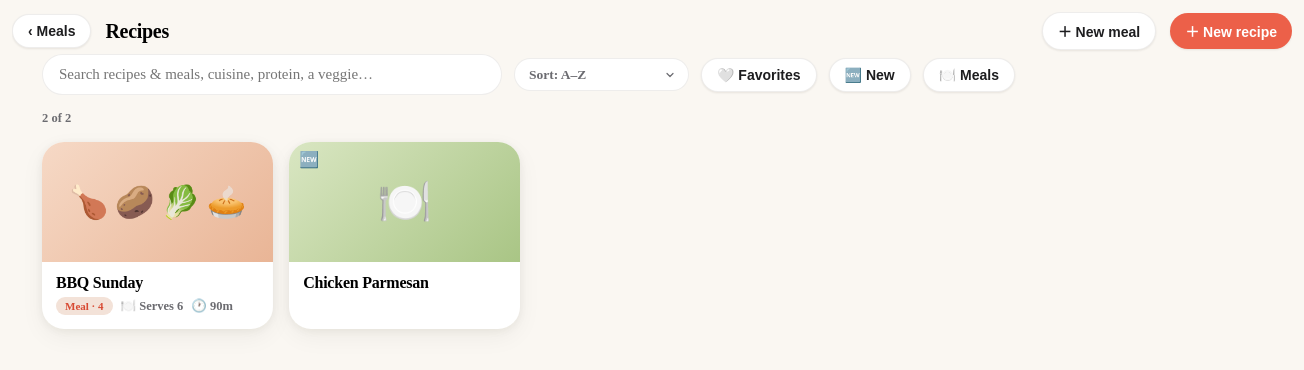
Test: RecipesLibrary — showing only meals › filters the library down to saved meals
The image size is (1304, 370).
What coordinates should you click on to do the following:
click the button with aria-label "Show only meals"
I would click on:
 (969, 74)
Its box is [923, 58, 1015, 92].
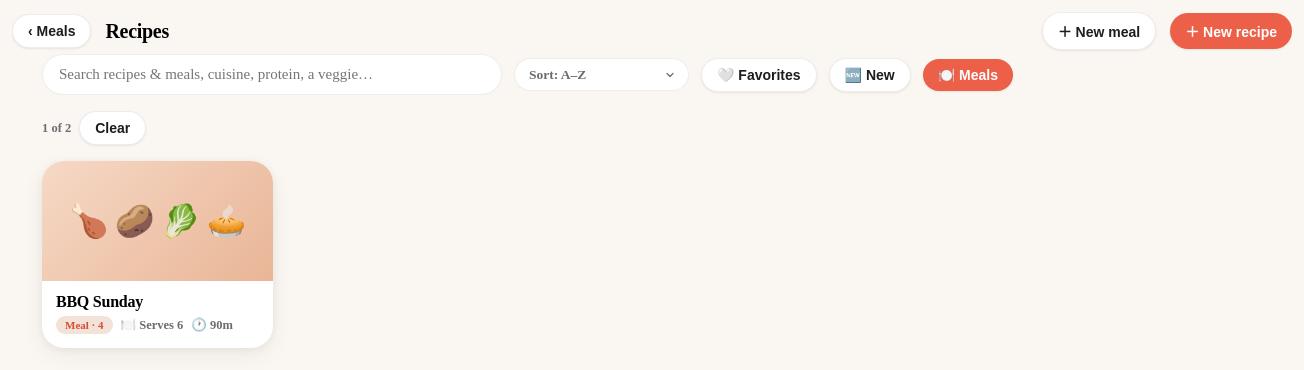
Expected: the text "BBQ Sunday" is shown, [56, 293, 143, 310]
Result: the button "Chicken Parmesan" is gone
Result: the text "1 of 2" is shown at [42, 120, 71, 136]
